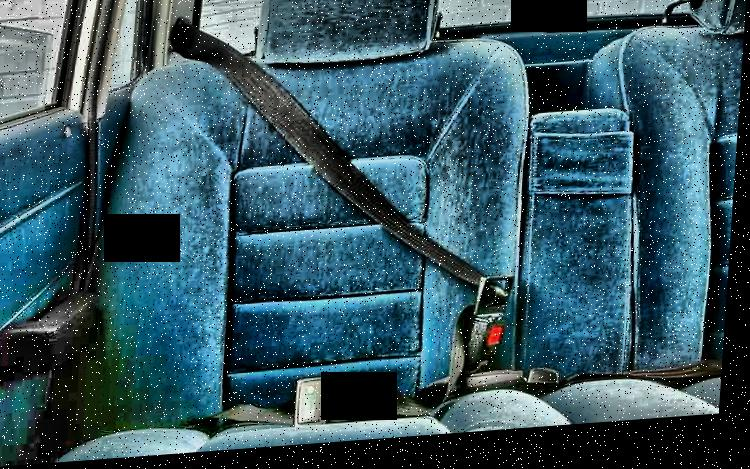seatbelt: (145, 0, 547, 391)
